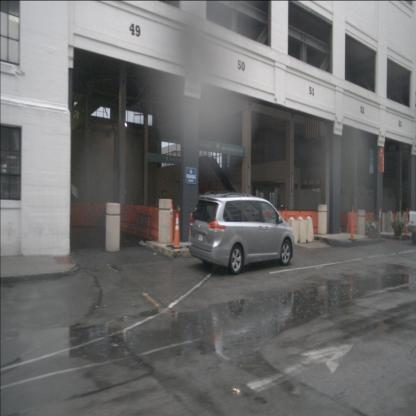movable_object-barrier: (69, 202, 93, 228), (263, 211, 286, 238), (147, 207, 164, 241), (281, 211, 301, 239), (89, 202, 110, 228), (134, 206, 150, 240), (299, 210, 319, 236), (120, 205, 136, 235), (346, 212, 362, 235), (362, 212, 377, 234), (338, 212, 350, 227)
movable_object-trafficcone: (166, 198, 176, 248), (171, 211, 183, 249), (186, 212, 196, 248), (348, 205, 357, 241), (376, 206, 383, 242), (403, 207, 410, 237)
vehicle-car: (189, 193, 295, 276)
